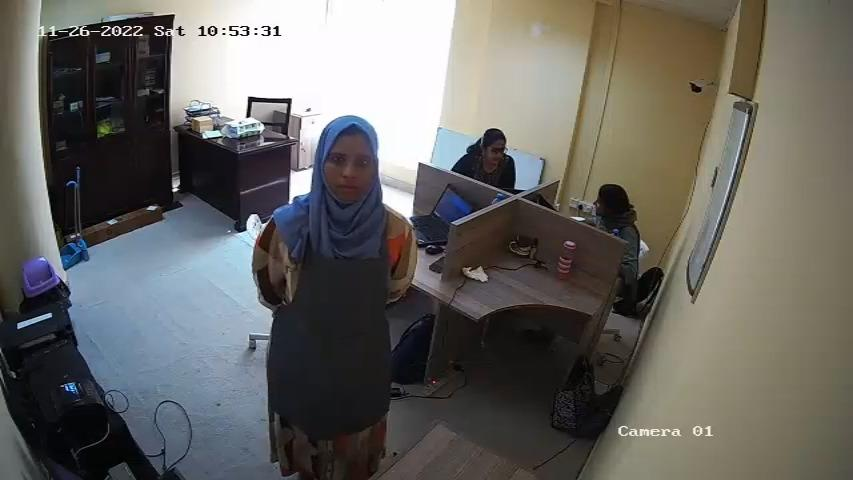apron: (267, 218, 399, 432)
